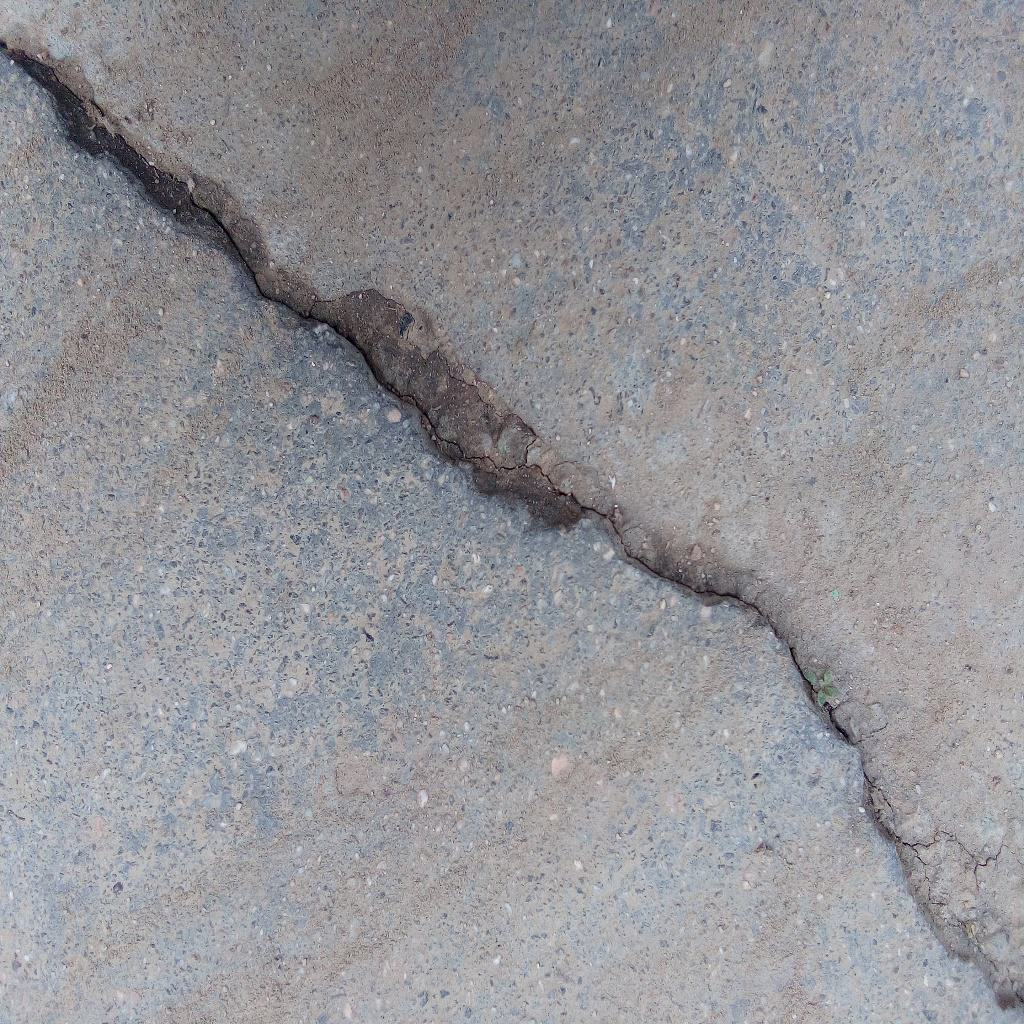Crack: (1, 37, 898, 837)
Spalling: (898, 837, 1024, 1024)
